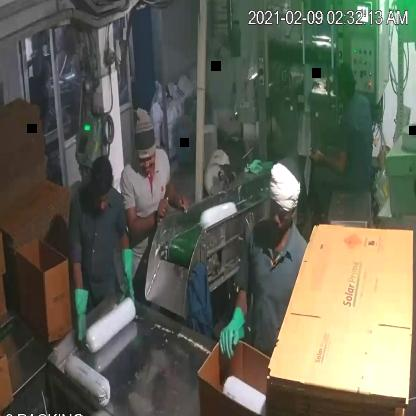glove: (63, 278, 98, 355), (113, 247, 146, 322), (213, 308, 252, 365)
no_glove: (122, 193, 174, 235), (310, 136, 352, 186), (159, 176, 192, 220)
